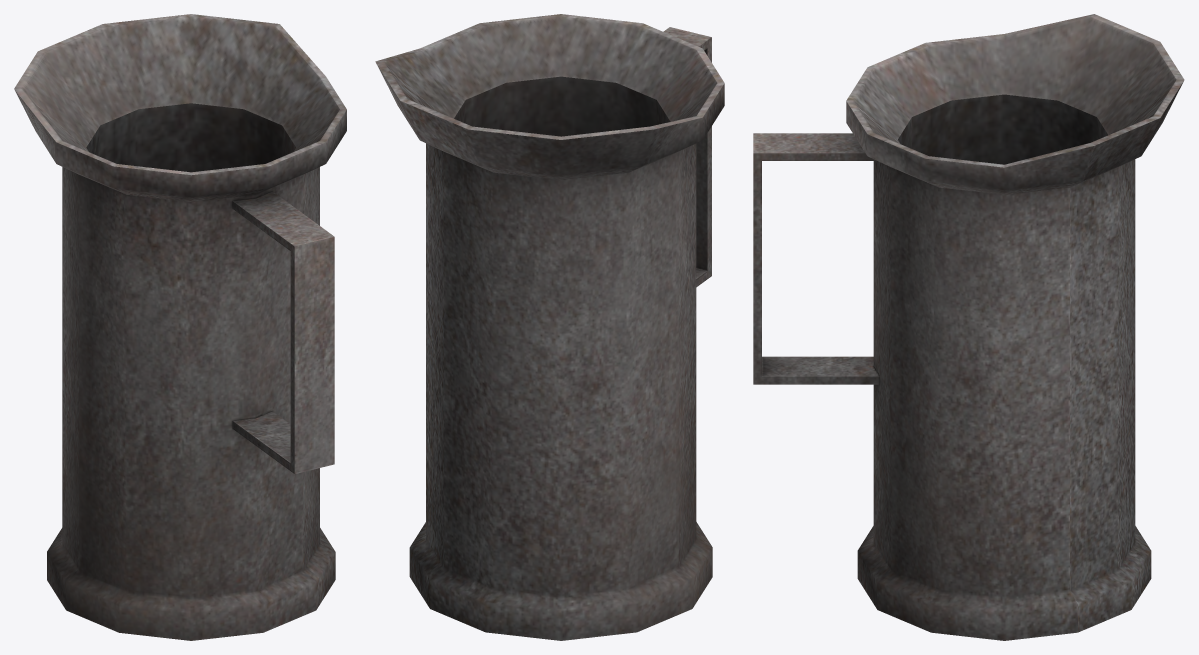
Rendered from jugIron_2.fbx.
3 views of the same model, side by side, from view 1: azimuth 30°, elevation 25°; view 2: azimuth 150°, elevation 25°; view 3: azimuth 270°, elevation 25° (orthographic). The views are drawn at different scales.
Visible parts, largest first — view 1: jugIron_2; view 2: jugIron_2; view 3: jugIron_2.
Part boxes in pixels (x1=…): jugIron_2: x1=14, y1=14, x2=346, y2=640; jugIron_2: x1=375, y1=14, x2=724, y2=640; jugIron_2: x1=753, y1=14, x2=1184, y2=640.
Bounding box in the file's own units: 0.2086 × 0.363 × 0.2842.
1 material, 1 textured.
